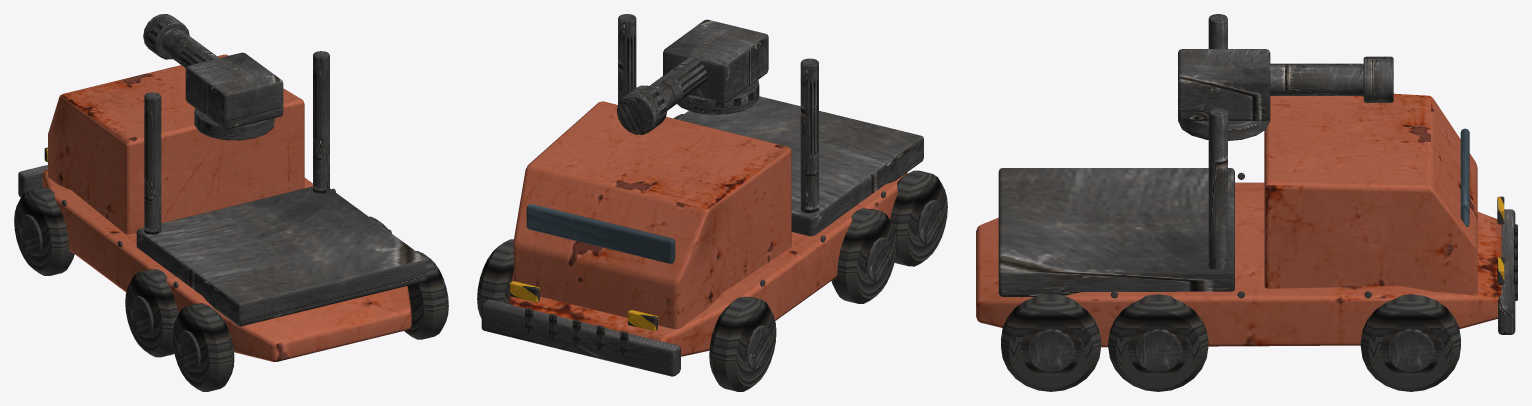
Rendered from bigrig.gltf.
3 renders of one model, left to right at view 1: azimuth 30°, elevation 25°; view 2: azimuth 150°, elevation 25°; view 3: azimuth 270°, elevation 25°, orthographic. The views are drawn at different scales.
Visible parts, largest first — view 1: Truck cab, Rear flatbed, Armored chassis.004, Artillery breech, CC0Wheel.020, CC0Wheel.024, CC0Wheel.022, Exhaust stack, CC0Wheel.021, Exhaust stack.001, Heavy barrel, Turret (+5 smaller); view 2: Truck cab, Rear flatbed, Armored chassis.004, Ram plate.004, Artillery breech, CC0Wheel.024, Truck windshield, CC0Wheel.022, CC0Wheel.020, Exhaust stack, Muzzle brake, CC0Wheel.025 (+8 smaller); view 3: Truck cab, Rear flatbed, Armored chassis.004, Artillery breech, CC0Wheel.021, CC0Wheel.025, CC0Wheel.023, Exhaust stack.001, Heavy barrel, Ram plate.004, Hub.021, Hub.025 (+5 smaller).
Part boxes in pixels (x1,y1,x2,y2): Truck cab: (48,54,304,234); Rear flatbed: (136,186,426,326); Armored chassis.004: (42,169,411,361); Artillery breech: (185,52,283,129); CC0Wheel.020: (172,303,234,391); CC0Wheel.024: (14,187,74,275); CC0Wheel.022: (125,269,178,357); Exhaust stack: (144,92,161,234); CC0Wheel.021: (404,251,448,339); Exhaust stack.001: (313,51,329,193); Heavy barrel: (161,28,218,68); Turret: (194,108,274,140); Truck cab: (513,101,791,329); Rear flatbed: (677,96,923,236); Armored chassis.004: (508,172,907,356); Ram plate.004: (481,299,680,376); Artillery breech: (663,19,768,102); CC0Wheel.024: (709,296,776,391); Truck windshield: (526,204,675,263); CC0Wheel.022: (831,208,896,303); CC0Wheel.020: (890,170,947,266); Exhaust stack: (800,58,818,212); Muzzle brake: (617,85,667,134); CC0Wheel.025: (477,239,513,318); Truck cab: (1264,93,1477,295); Rear flatbed: (998,168,1234,296); Armored chassis.004: (976,182,1501,347); Artillery breech: (1178,49,1270,120); CC0Wheel.021: (1001,294,1101,391); CC0Wheel.025: (1360,294,1460,391); CC0Wheel.023: (1108,294,1208,391); Exhaust stack.001: (1208,107,1227,269); Heavy barrel: (1269,63,1363,95); Ram plate.004: (1498,209,1515,334); Hub.021: (1027,329,1075,372); Hub.025: (1386,329,1434,372).
Size of the model in its own units: 2.8 by 2.58 by 4.7.
Materials: 5 (5 with a texture image).
